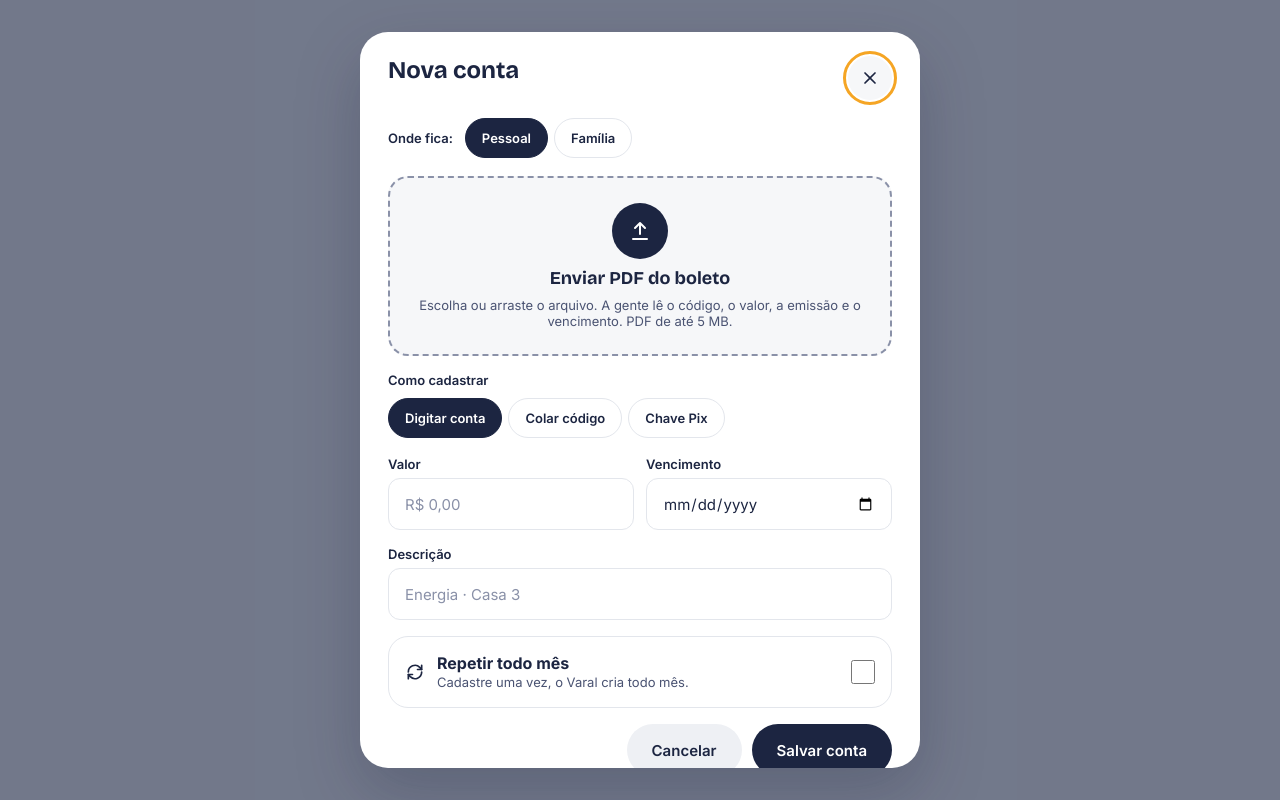
q08-9: gravação bloqueia reenvio e resposta atrasada não navega após desmontar
The image size is (1280, 800).
In the field labelled "Descrição": [640, 594] box left=405, top=569, right=875, bottom=619, type "Energia"
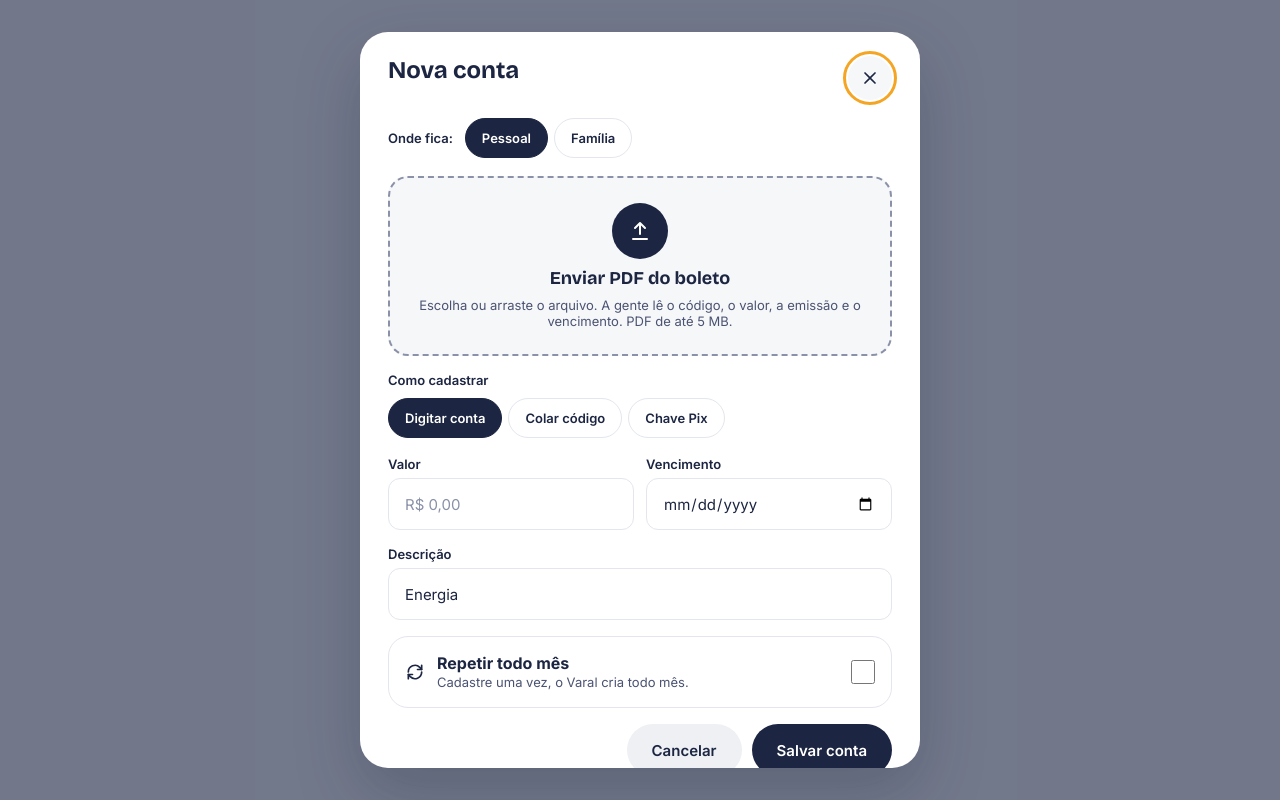
In the field labelled "Valor": [511, 504] box left=405, top=479, right=617, bottom=529, type "12,00"
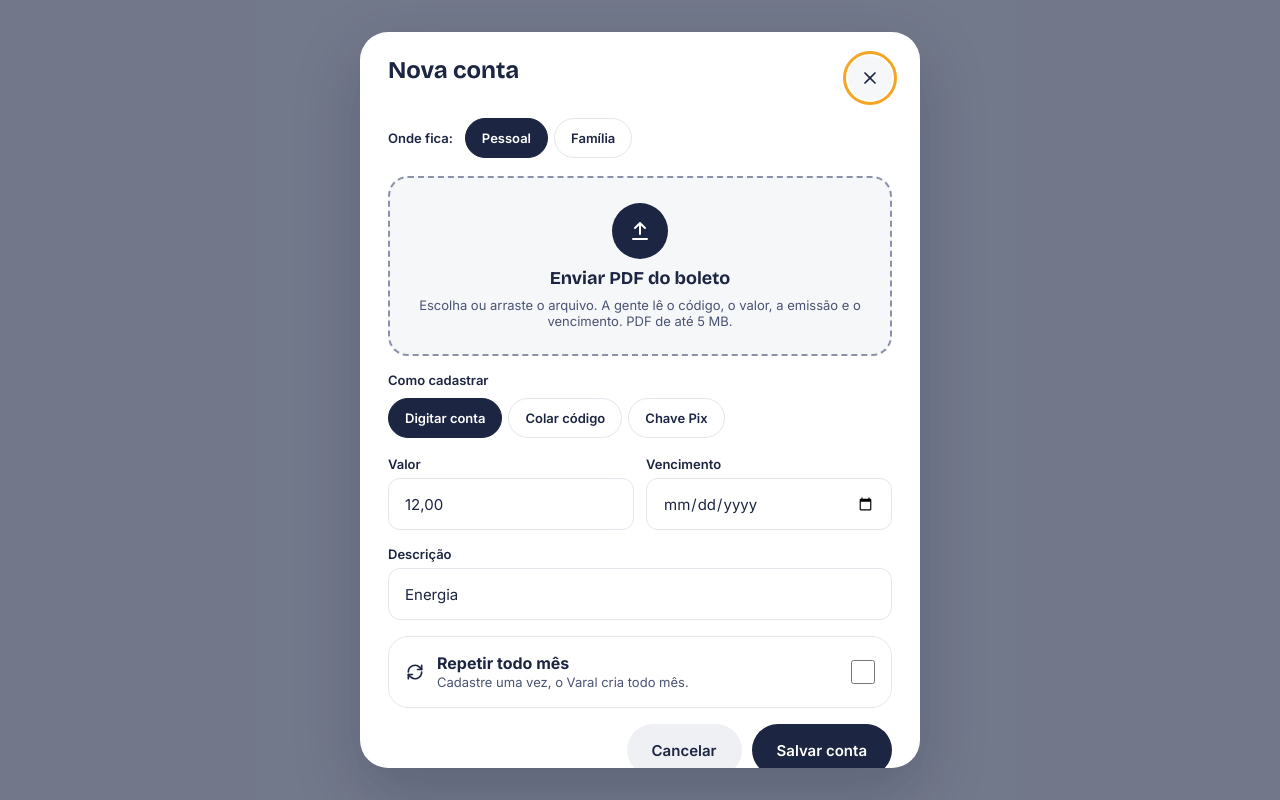
In the date field labelled "Vencimento": [769, 504] box left=663, top=479, right=875, bottom=529, type "2026-11-14"
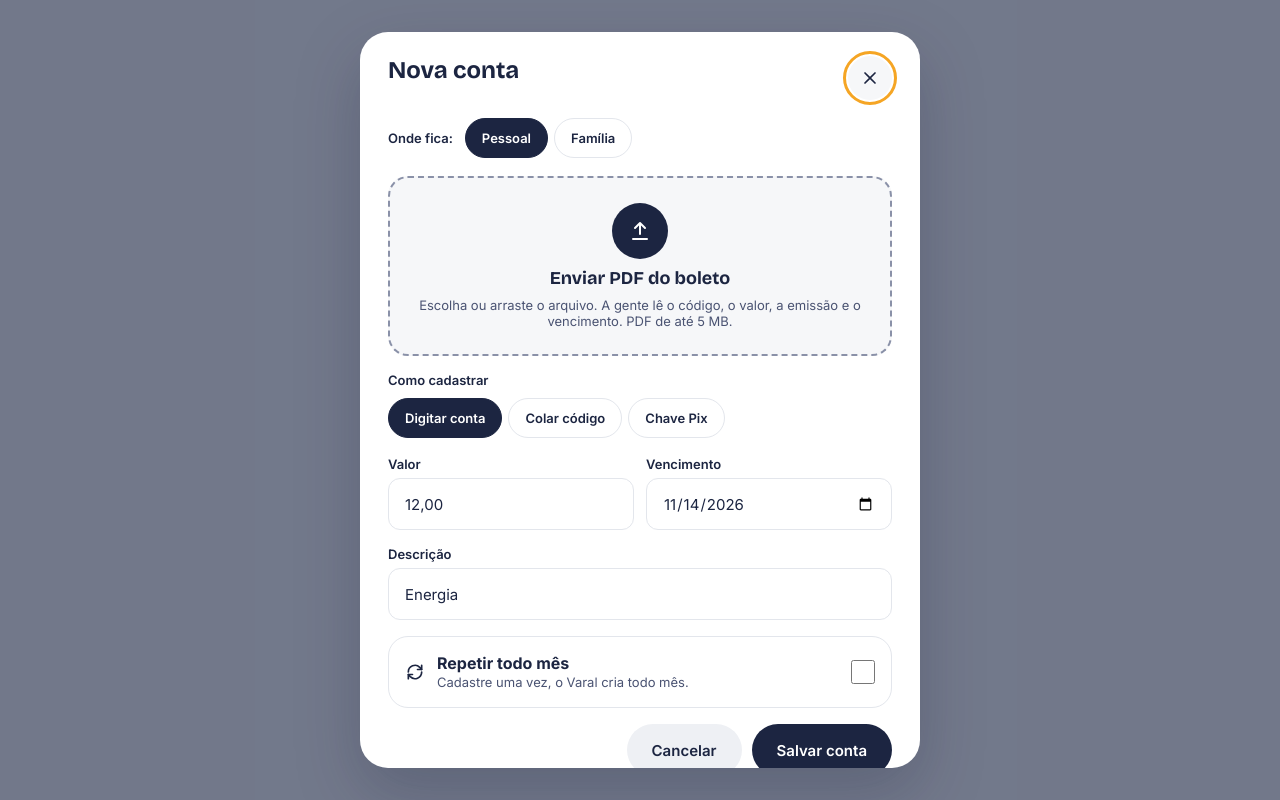
Click the checkbox labelled "Repetir todo mês Cadastre uma vez, o Varal cria todo mês.": [863, 672] box left=851, top=660, right=875, bottom=684
(page scrolled)
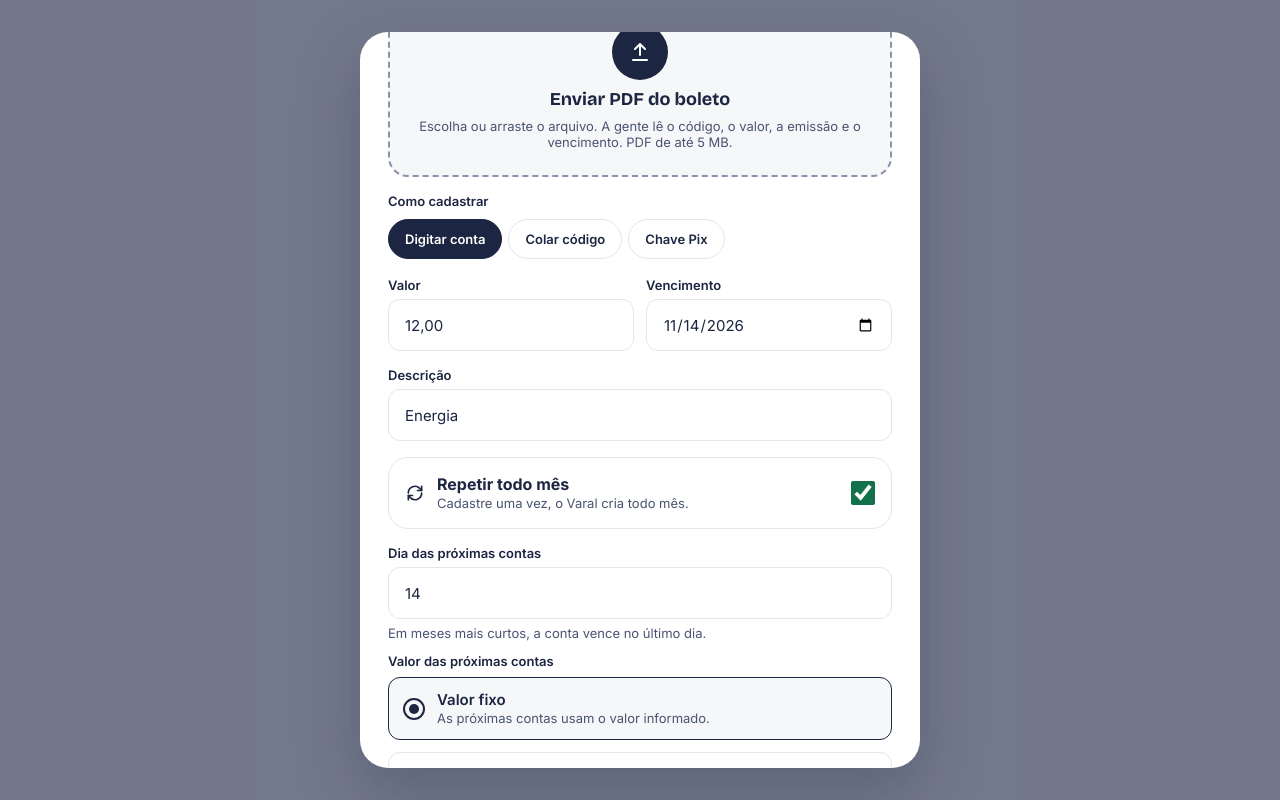
Submit the form with id "conta-form"
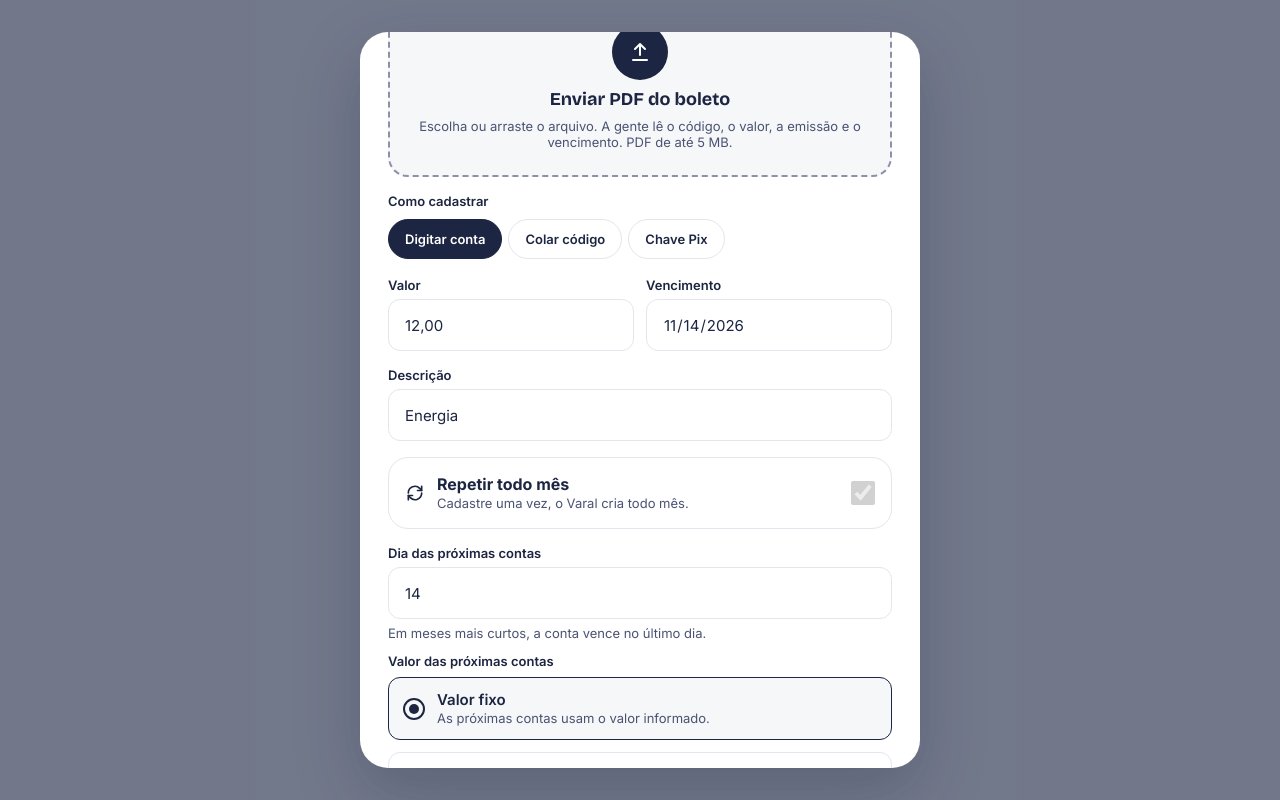
Submit the form with id "conta-form"
(page scrolled)
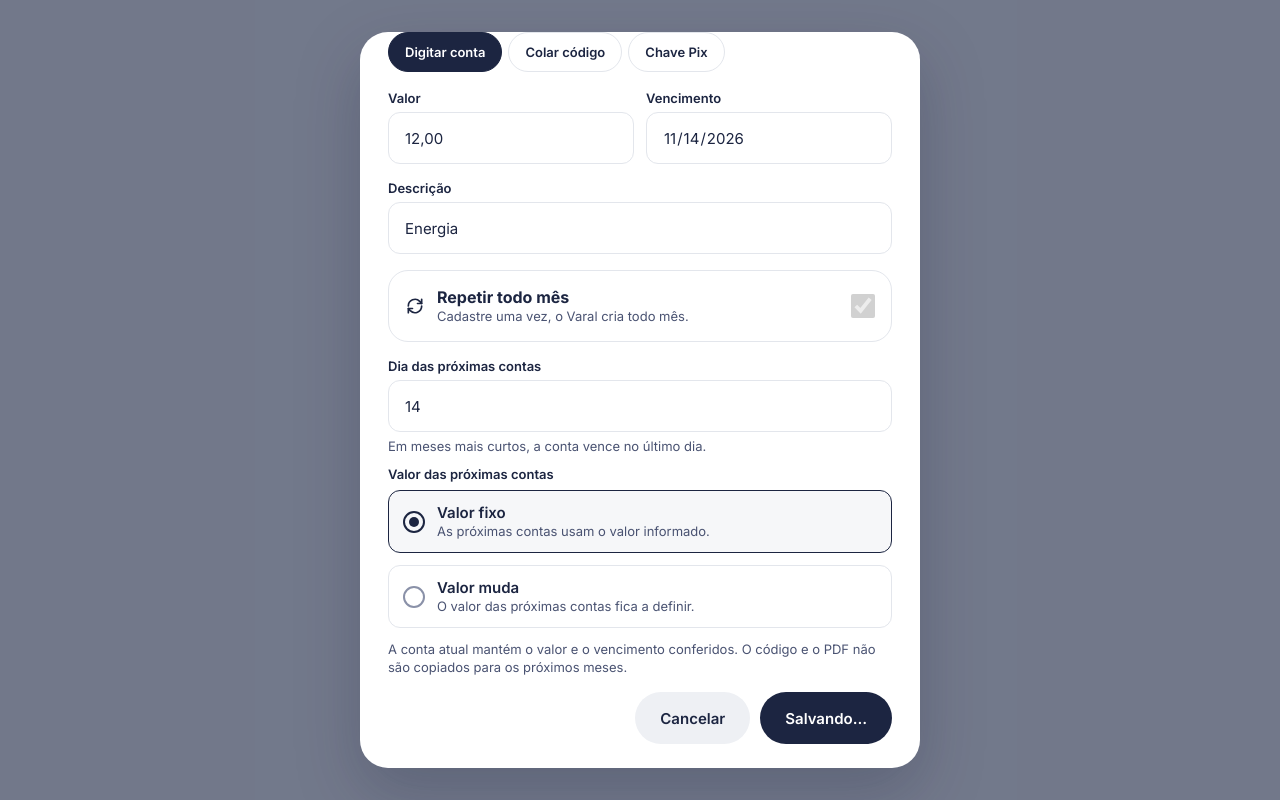
Now the button "Salvando…" is disabled, box left=760, top=692, right=892, bottom=744
